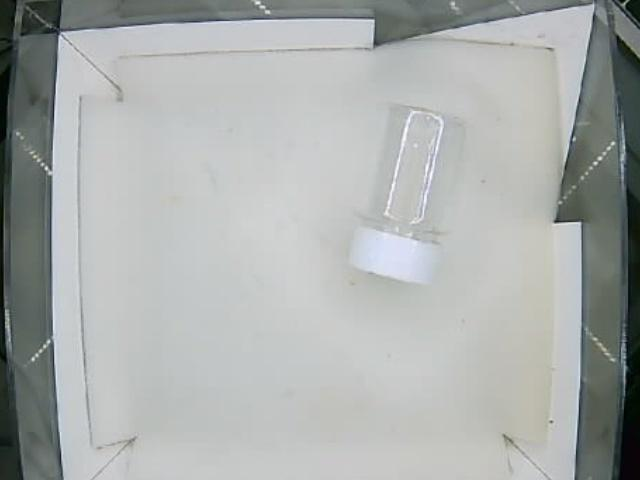Bottle: (347, 101, 468, 285)
